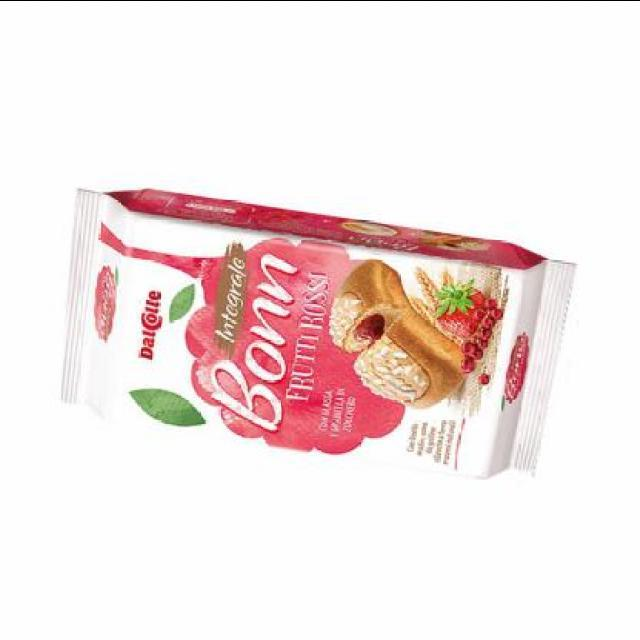Merendine: (92, 186, 572, 474)
